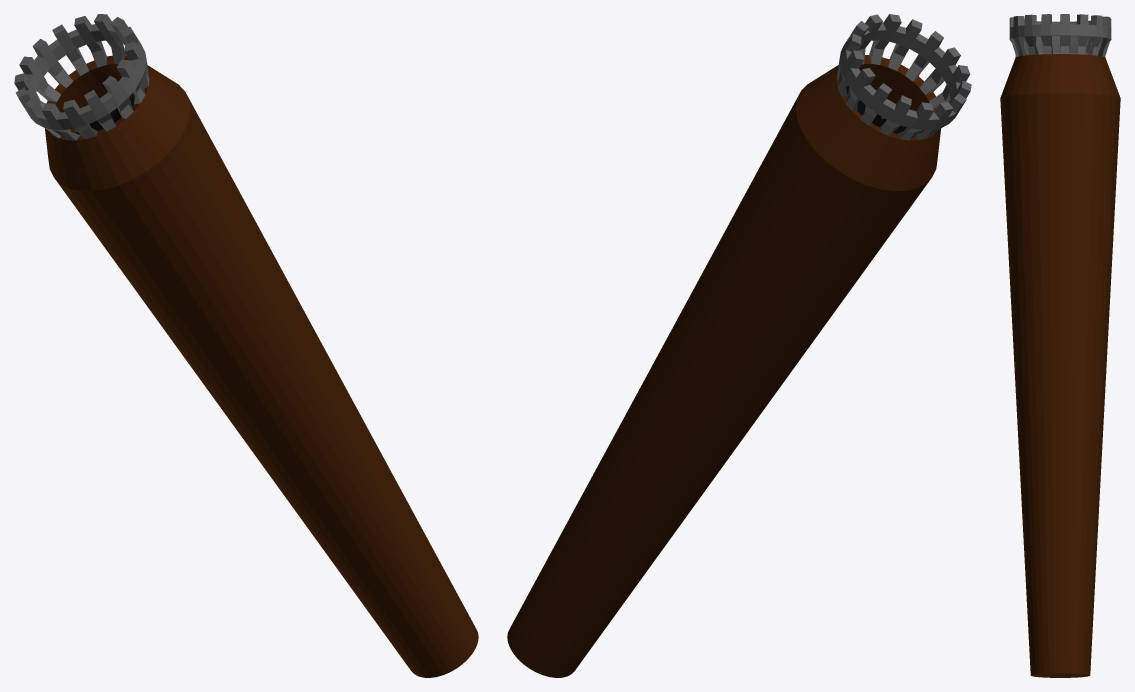
File: torch.fbx
The picture shows the model from 3 angles, left to right: view 1: azimuth 30°, elevation 25°; view 2: azimuth 150°, elevation 25°; view 3: azimuth 270°, elevation 25°; orthographic projection. The views are drawn at different scales.
Visible parts, largest first — view 1: Cylinder; view 2: Cylinder; view 3: Cylinder.
Part boxes in pixels (x1,y1,x2,y2): Cylinder: [14, 14, 478, 677]; Cylinder: [507, 14, 971, 677]; Cylinder: [1000, 14, 1120, 677].
Bounding box in the file's own units: 257 × 396 × 77.87.
